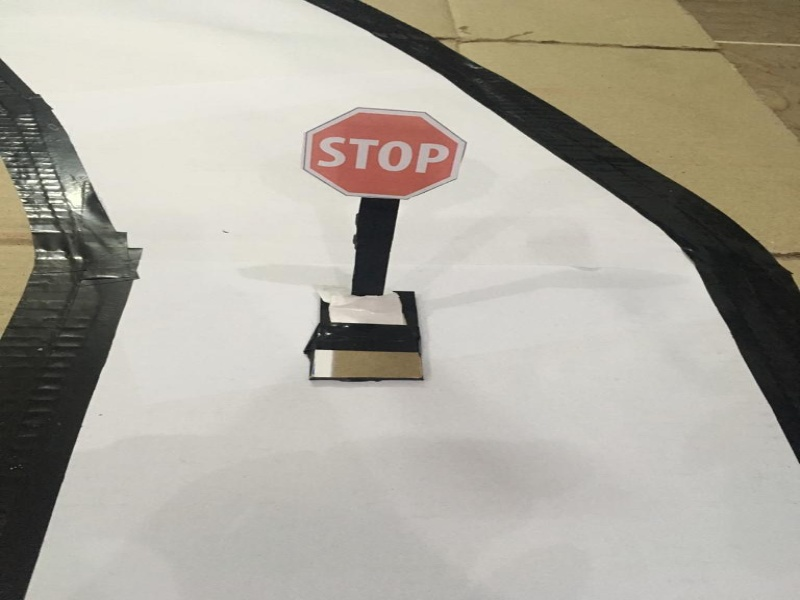Stop: (297, 99, 468, 199)
